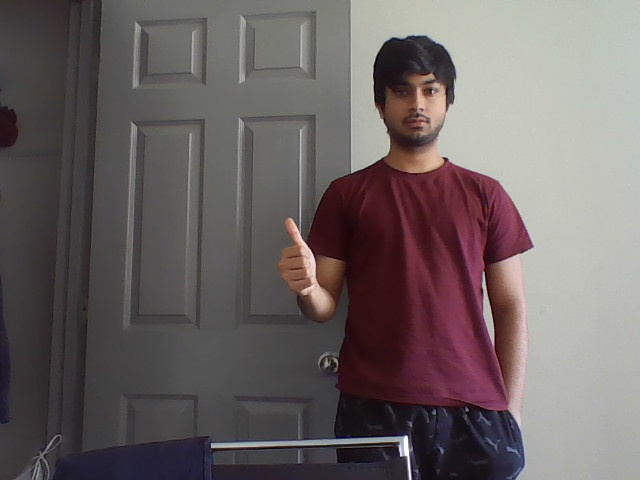confirm: (272, 214, 321, 300)
